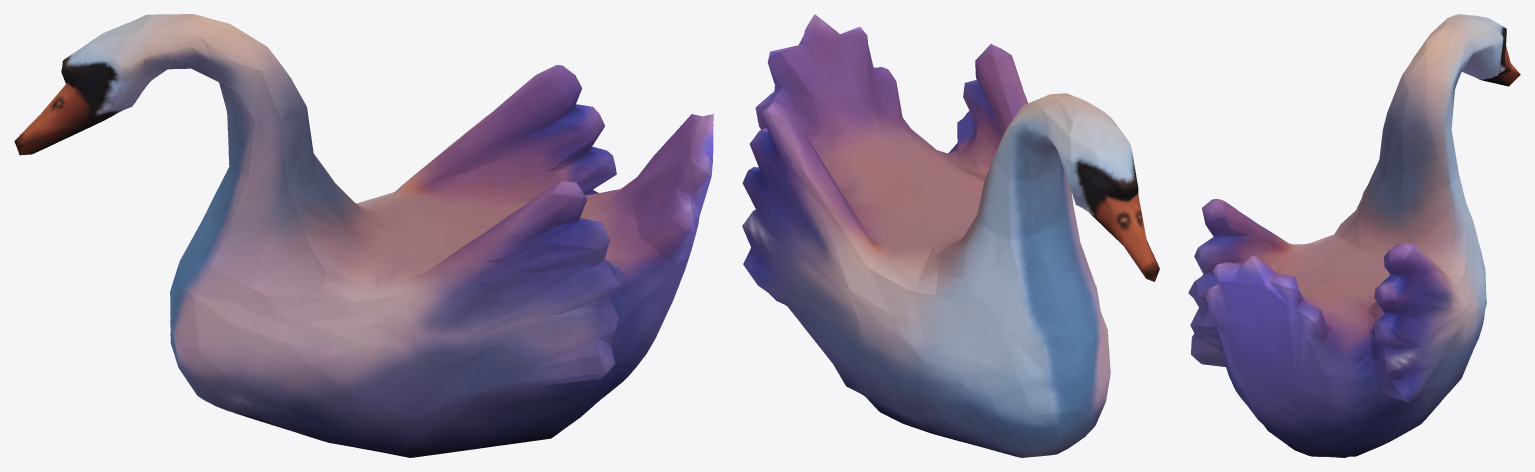
The model's file is obj11_baseline.glb.
The picture shows the model from 3 angles, left to right: view 1: azimuth 30°, elevation 25°; view 2: azimuth 150°, elevation 25°; view 3: azimuth 270°, elevation 25°; orthographic projection. The views are drawn at different scales.
Parts seen in each view (by area): view 1: n1; view 2: n1; view 3: n1.
Boxes of the visible parts, x1,y1,x2,y2 form: n1: [14, 14, 713, 457]; n1: [742, 14, 1159, 457]; n1: [1188, 14, 1520, 457].
Size of the model in its own units: 0.895 by 0.6534 by 0.5934.
